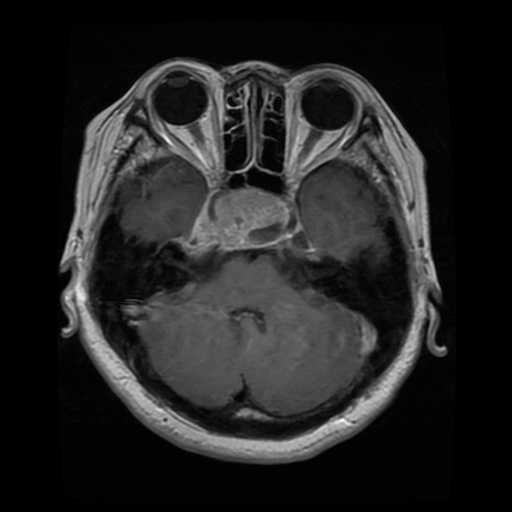pituitary: (199, 191, 285, 246)
